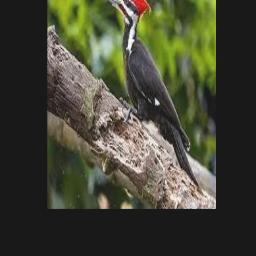Woodpecker: (104, 0, 201, 189)
